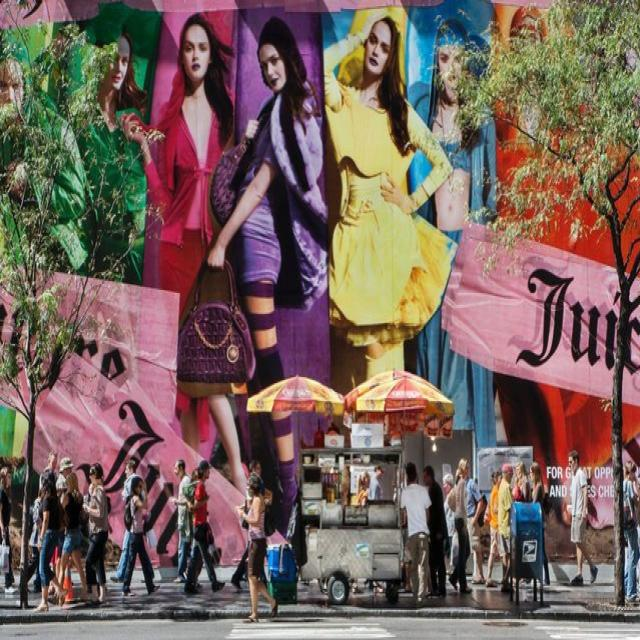body: (0, 14, 534, 454), (232, 470, 278, 622), (182, 457, 226, 593), (230, 457, 274, 593), (396, 460, 432, 607), (32, 467, 68, 613), (120, 475, 161, 599), (108, 458, 148, 584), (54, 472, 88, 608), (567, 448, 599, 587), (81, 463, 110, 607), (420, 463, 450, 599), (446, 455, 474, 595), (168, 457, 194, 584), (526, 460, 551, 586), (463, 472, 488, 587), (350, 471, 372, 596), (622, 458, 640, 607), (482, 469, 503, 589), (496, 463, 515, 589), (0, 466, 17, 596), (26, 485, 45, 595), (440, 470, 458, 577), (38, 449, 60, 494), (513, 460, 532, 503), (188, 467, 200, 535), (56, 455, 74, 490), (368, 463, 384, 500)
